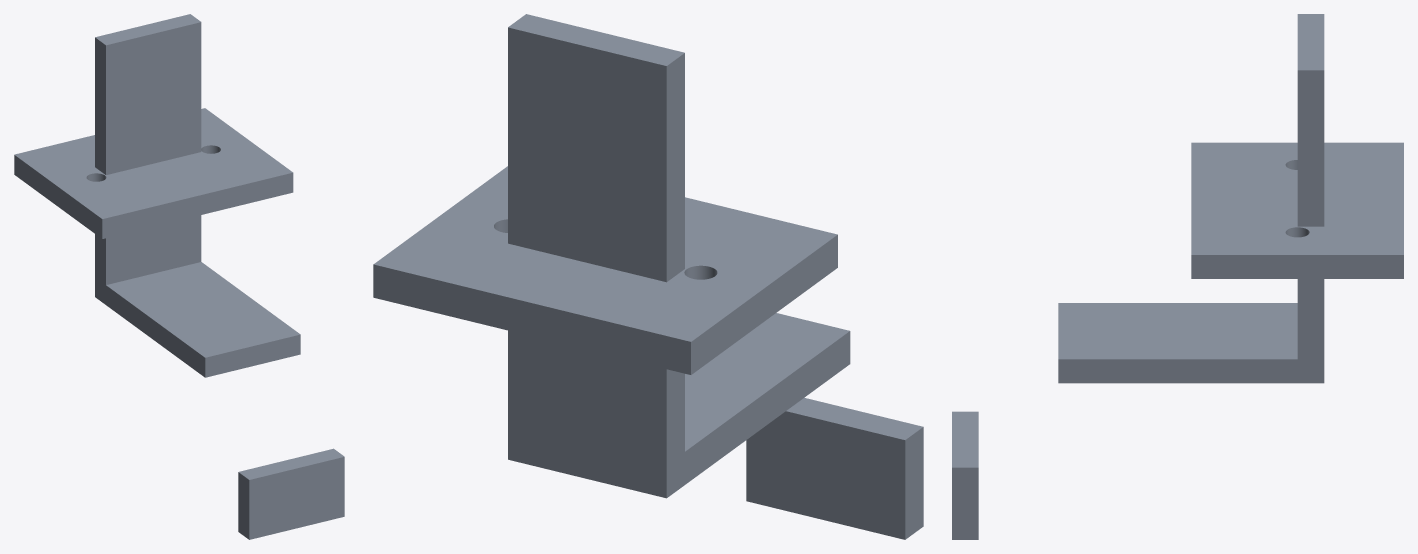
The model's file is step-3.glb.
3 renders of one model, left to right at view 1: azimuth 30°, elevation 25°; view 2: azimuth 150°, elevation 25°; view 3: azimuth 270°, elevation 25°, orthographic. The views are drawn at different scales.
Visible parts, largest first — view 1: face_28b731a8f822eb78252b, face_1fb181652629a61399d5, face_4745dc62941821c77b43, face_b871de89ef393d0ac090, face_7ed3ab88f1141eea6950, face_62176660de33da2a8acc, face_4fcc6b123739bd6703df, face_0a1f7884a5ae0766812b, face_2387bebc3daec8518587, face_c37687d8000c713b5b3d, face_796eee5076873e612fb4, face_4ad443d8a2e32b561182 (+1 smaller); view 2: face_4eadf2c8754e1f8b7212, face_1fb181652629a61399d5, face_9cd9d07e97dd9a8e240a, face_b90d31d91e01b4e0a304, face_1bc03e026736f860c4b3, face_4745dc62941821c77b43, face_4fcc6b123739bd6703df, face_2387bebc3daec8518587, face_c37687d8000c713b5b3d, face_4ad443d8a2e32b561182, face_796eee5076873e612fb4, face_d4f5b7032a6364ffd2ee; view 3: face_1fb181652629a61399d5, face_4745dc62941821c77b43, face_520e7516aaf6307371ef, face_32ec73f5bec05636c484, face_f505decc741e54475a4c, face_eefb3f98f24cd72b0f7e, face_4ad443d8a2e32b561182, face_796eee5076873e612fb4.
Part boxes in pixels (bbox=[...]): face_28b731a8f822eb78252b: bbox=[106, 22, 201, 174]; face_1fb181652629a61399d5: bbox=[14, 108, 292, 218]; face_4745dc62941821c77b43: bbox=[106, 262, 300, 357]; face_b871de89ef393d0ac090: bbox=[249, 457, 344, 539]; face_7ed3ab88f1141eea6950: bbox=[106, 215, 201, 284]; face_62176660de33da2a8acc: bbox=[102, 172, 293, 238]; face_4fcc6b123739bd6703df: bbox=[95, 234, 205, 377]; face_0a1f7884a5ae0766812b: bbox=[205, 334, 300, 377]; face_2387bebc3daec8518587: bbox=[14, 155, 102, 238]; face_c37687d8000c713b5b3d: bbox=[95, 37, 105, 174]; face_796eee5076873e612fb4: bbox=[239, 448, 344, 479]; face_4ad443d8a2e32b561182: bbox=[95, 14, 200, 45]; face_4eadf2c8754e1f8b7212: bbox=[508, 27, 666, 282]; face_1fb181652629a61399d5: bbox=[373, 166, 837, 341]; face_9cd9d07e97dd9a8e240a: bbox=[508, 330, 666, 498]; face_b90d31d91e01b4e0a304: bbox=[746, 411, 905, 539]; face_1bc03e026736f860c4b3: bbox=[373, 264, 690, 374]; face_4745dc62941821c77b43: bbox=[685, 313, 849, 451]; face_4fcc6b123739bd6703df: bbox=[666, 331, 850, 497]; face_2387bebc3daec8518587: bbox=[691, 235, 837, 374]; face_c37687d8000c713b5b3d: bbox=[666, 53, 684, 281]; face_4ad443d8a2e32b561182: bbox=[508, 14, 684, 65]; face_796eee5076873e612fb4: bbox=[786, 398, 923, 439]; face_d4f5b7032a6364ffd2ee: bbox=[905, 427, 923, 539]; face_1fb181652629a61399d5: bbox=[1191, 142, 1403, 254]; face_4745dc62941821c77b43: bbox=[1058, 303, 1297, 359]; face_520e7516aaf6307371ef: bbox=[1058, 279, 1324, 383]; face_32ec73f5bec05636c484: bbox=[1191, 255, 1403, 278]; face_f505decc741e54475a4c: bbox=[1297, 70, 1324, 226]; face_eefb3f98f24cd72b0f7e: bbox=[952, 467, 978, 539]; face_4ad443d8a2e32b561182: bbox=[1297, 14, 1324, 70]; face_796eee5076873e612fb4: bbox=[952, 411, 978, 467].
Size of the model in its own units: 0.05 by 0.0975 by 0.085.
